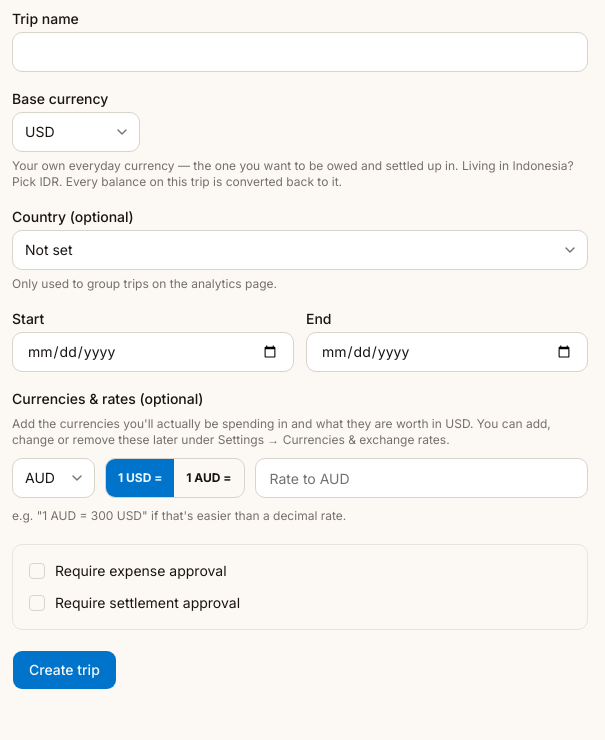
Test: CreateTripForm › confirms in place that a typed rate is already part of the trip
Select "IDR" in the dropdown labelled "Base currency": (76, 132) [12,112,140,152]
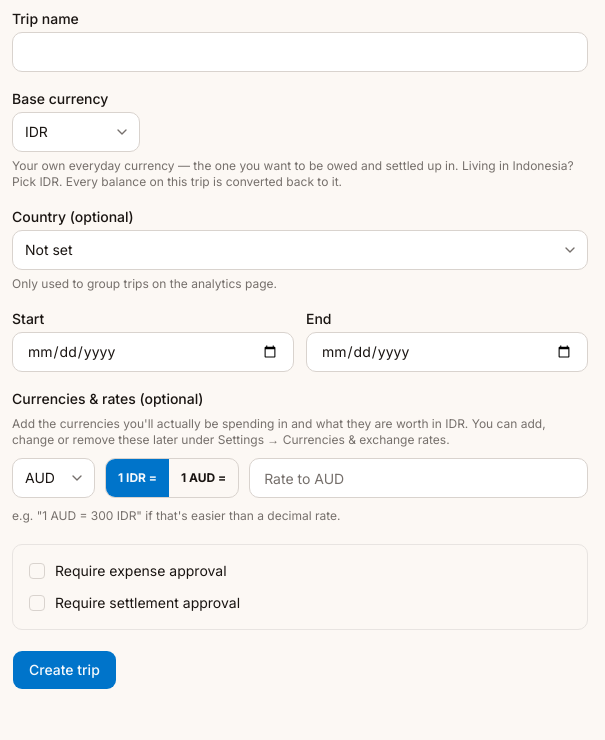
Select "PHP" in the dropdown named "Currency to add": (54, 478) [12,458,95,498]
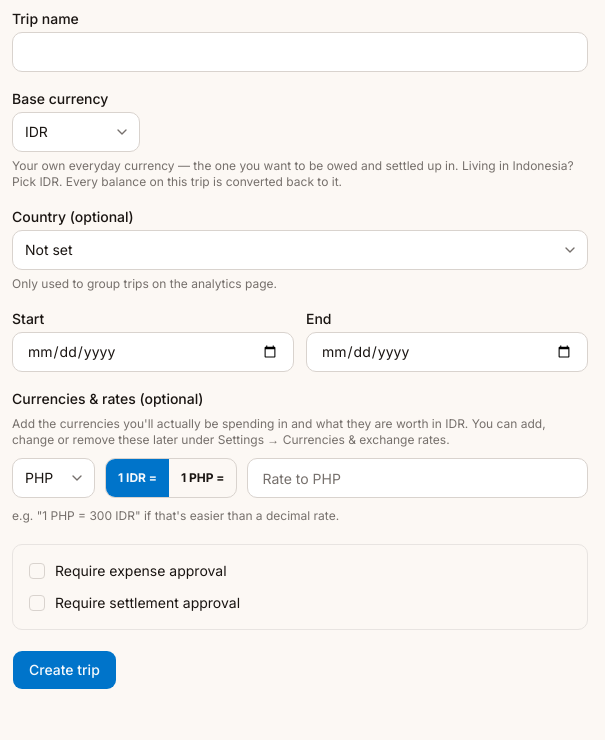
Click the button "1 PHP =": (203, 478) [169,459,236,497]
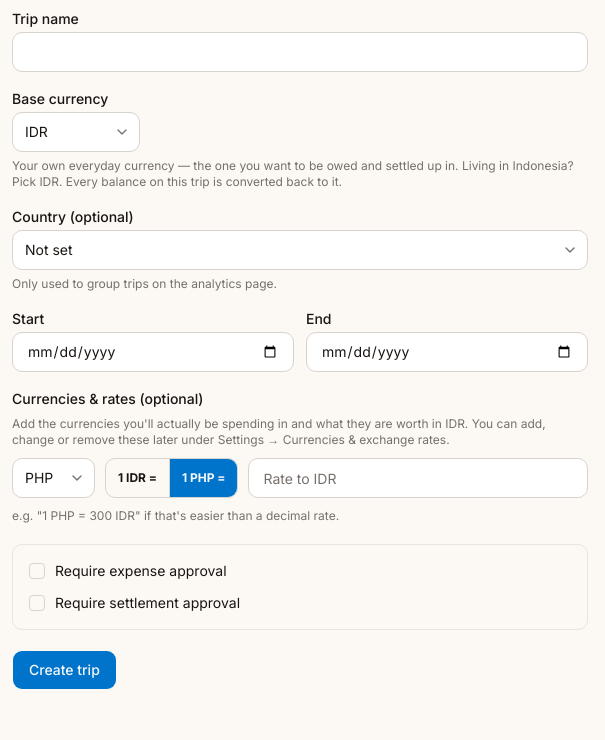
Check: the button "+ Add another currency" is not shown
In the field named "Exchange rate": (418, 478) [248,458,588,498], type "300"
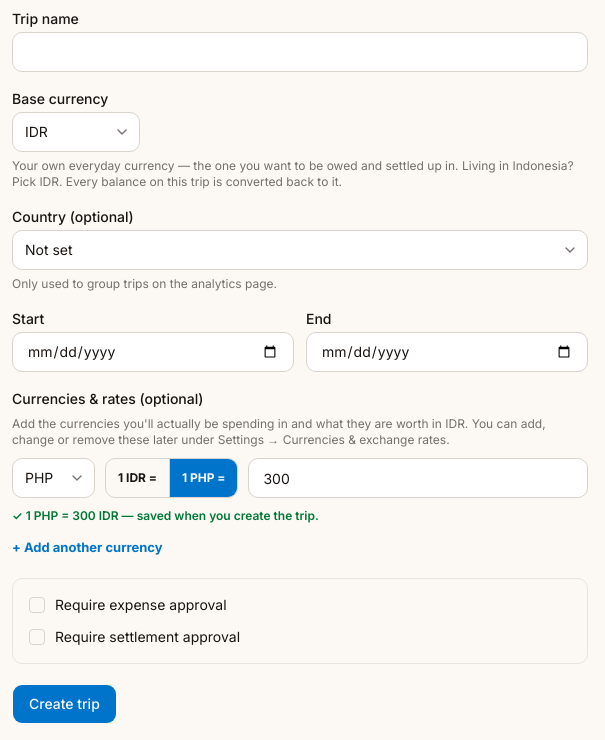
Check: the text "✓ 1 PHP = 300 IDR — saved when you create the trip." is shown, box [12,508,319,523]
Check: the button "+ Add another currency" is shown, box [12,538,163,558]
